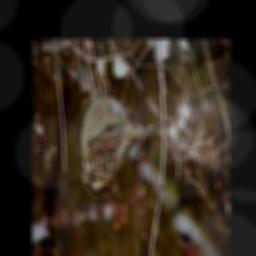Sparrow: (78, 82, 162, 196)
